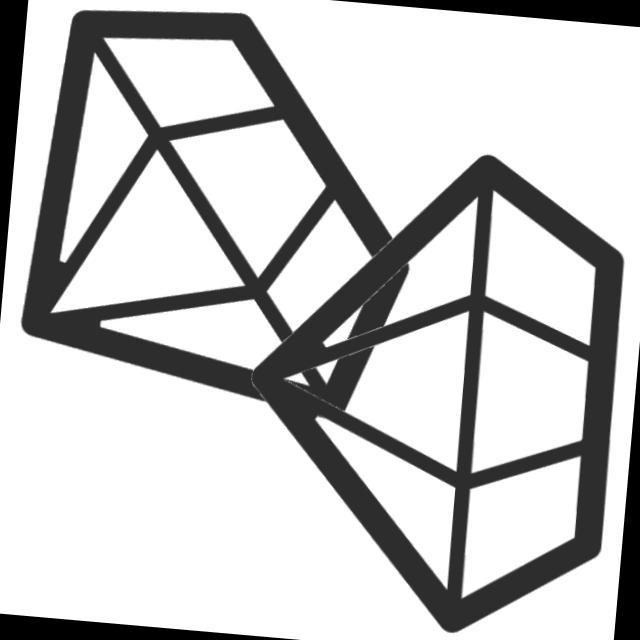diamond: (222, 124, 640, 640), (9, 1, 428, 434)
